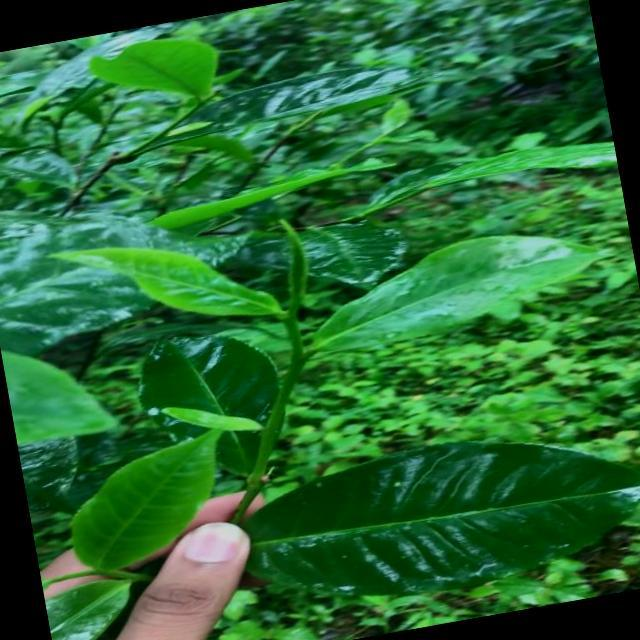Stem: (289, 357, 306, 372)
